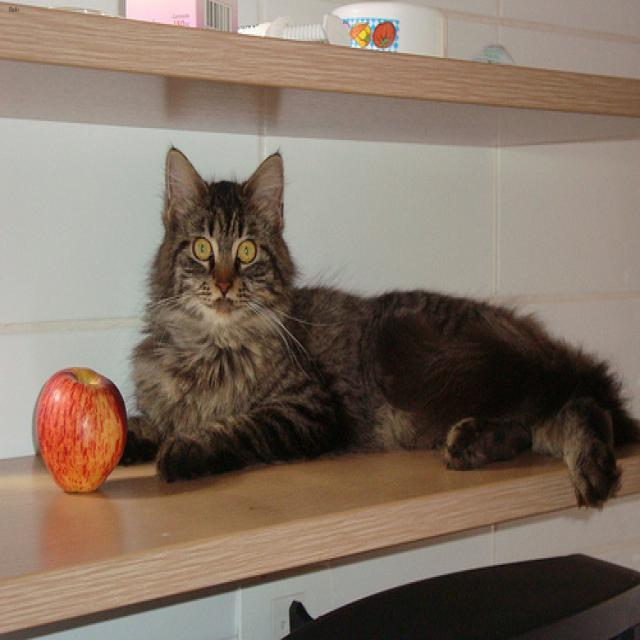Maine_Coon: (161, 145, 282, 319)
